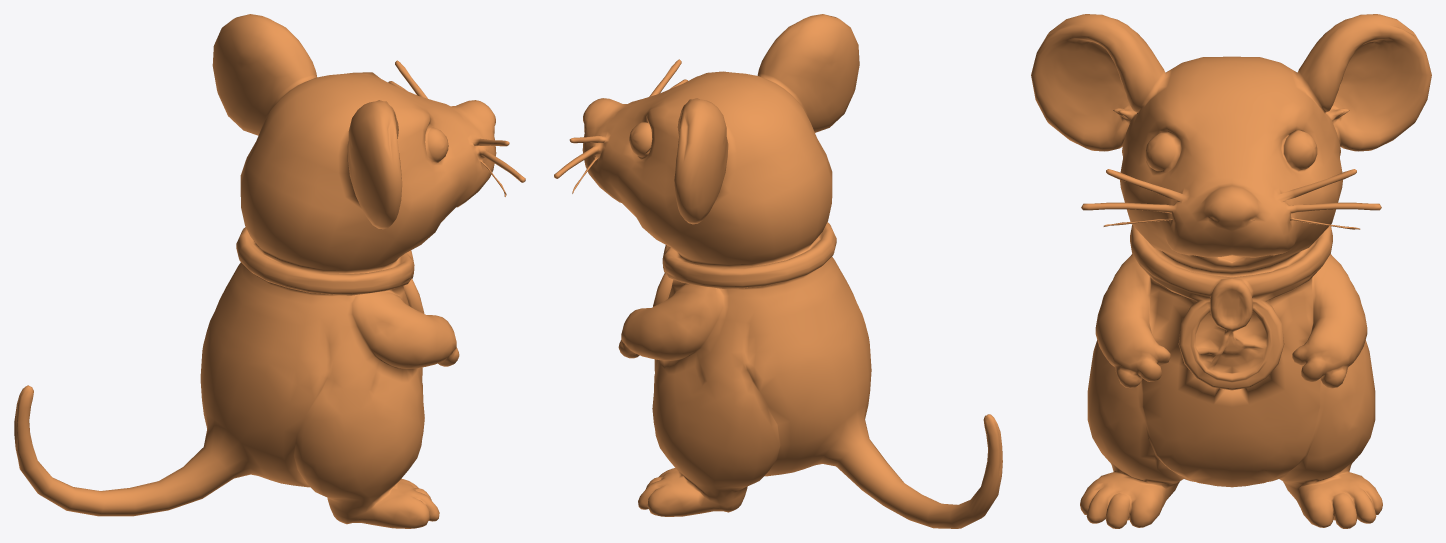
Rendered from rat-flat.glb.
3 views of the same model, side by side, from view 1: azimuth 30°, elevation 25°; view 2: azimuth 150°, elevation 25°; view 3: azimuth 270°, elevation 25° (orthographic). The views are drawn at different scales.
Visible parts, largest first — view 1: tripo_node_3592ad69-2ef2-4e12-ab00-d61902d0f5c9; view 2: tripo_node_3592ad69-2ef2-4e12-ab00-d61902d0f5c9; view 3: tripo_node_3592ad69-2ef2-4e12-ab00-d61902d0f5c9.
Part boxes in pixels (x1,y1,x2,y2): tripo_node_3592ad69-2ef2-4e12-ab00-d61902d0f5c9: (14, 14, 525, 528); tripo_node_3592ad69-2ef2-4e12-ab00-d61902d0f5c9: (554, 14, 1002, 528); tripo_node_3592ad69-2ef2-4e12-ab00-d61902d0f5c9: (1031, 14, 1431, 528).
Bounding box in the file's own units: 0.2179 × 0.2 × 0.1505.
